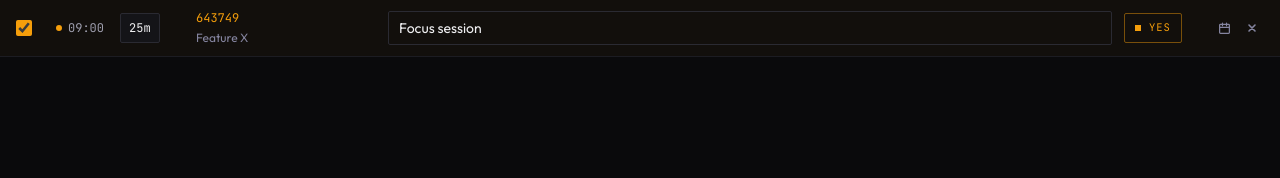
Test: EntryRow — Task › Esc closes the picker without a write; the assigned task is a key that reopens it
Click the text with test id "entry-task-id": (218, 18) [196, 9, 239, 27]
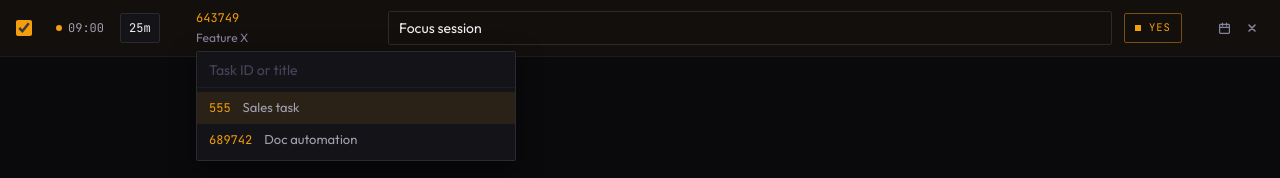
Check: the element with test id "task-picker" is shown, box [196, 51, 516, 161]
Press Escape
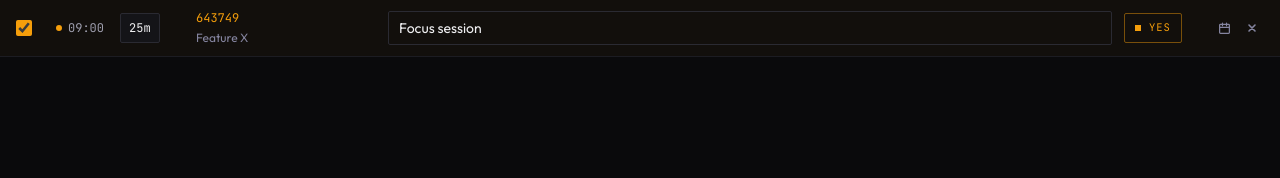
Check: the element with test id "task-picker" is gone
